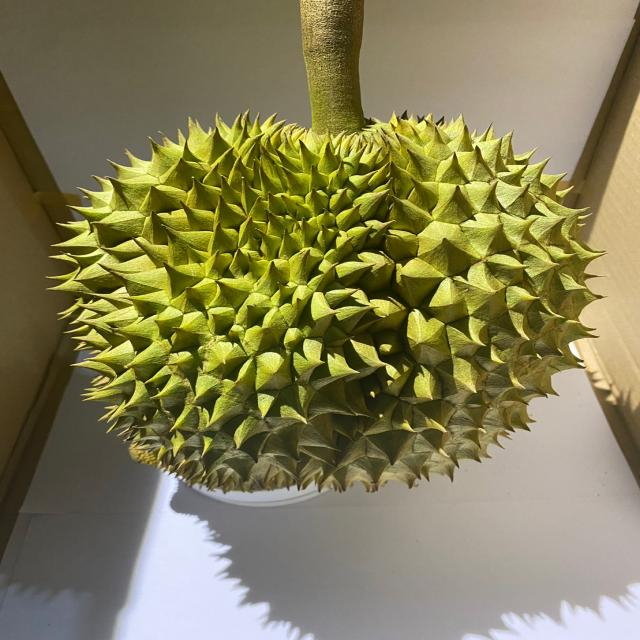immature: (45, 105, 604, 496)
